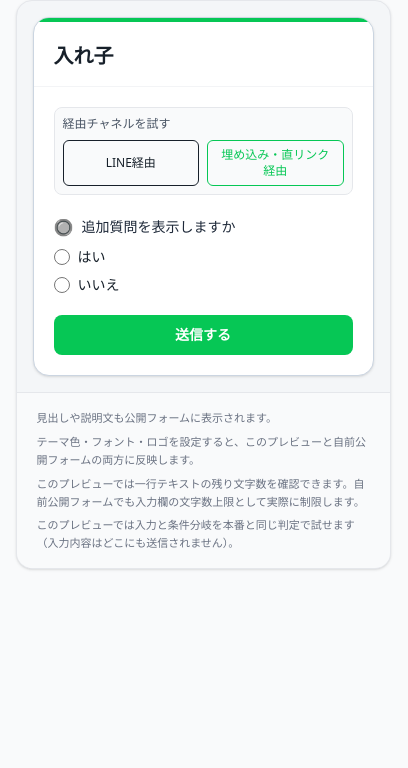
FormPreview — internal renderer と共有する条件分岐 › 親が隠れると下位も隠れ、親の再表示時に保持回答で下位条件を再評価する
This screenshot has width=408, height=768.
Expected: the text "下位の選択" is not shown
Expected: the text "下位の詳細" is not shown
What coordinates should you click on to do the following:
click the radio button named "プレビュー はい"
I would click on:
 (62, 257)
Its box is [54,249,70,265].
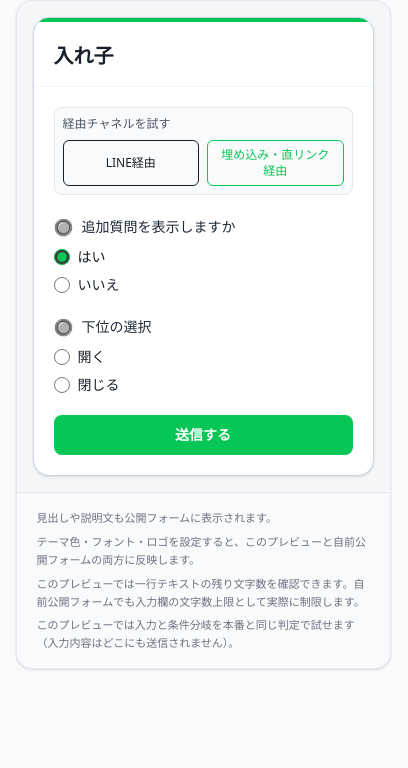
Expected: the text "下位の詳細" is not shown
Result: the text "下位の選択" is shown at [82,317,152,337]
What coordinates should you click on to do the following:
click the radio button named "プレビュー 開く"
I would click on:
 (62, 357)
Its box is [54,349,70,365].
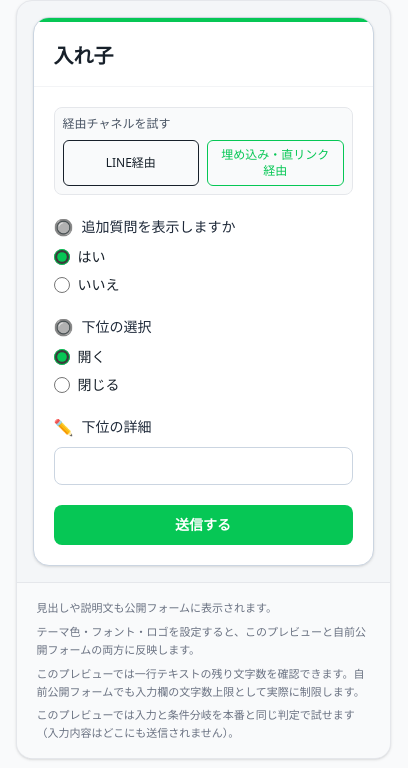
Result: the text "下位の詳細" is shown at [82,417,152,437]
What coordinates should you click on to do the following:
click the radio button named "プレビュー いいえ"
I would click on:
 (62, 285)
Its box is [54,277,70,293].
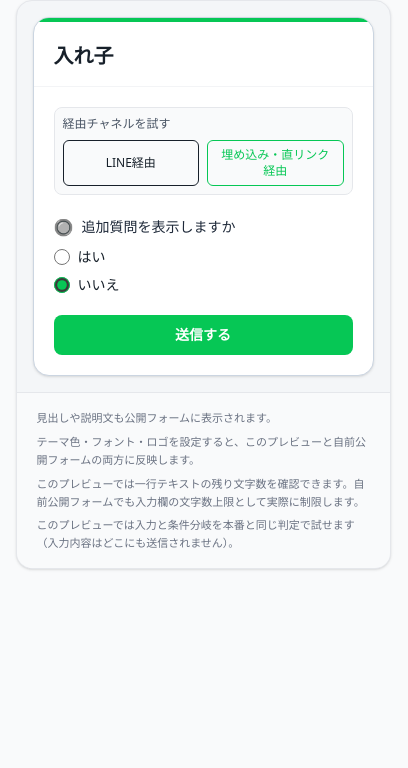
Result: the text "下位の選択" is gone
Result: the text "下位の詳細" is gone
What coordinates should you click on to do the following:
click the radio button named "プレビュー はい"
I would click on:
 (62, 257)
Its box is [54,249,70,265].
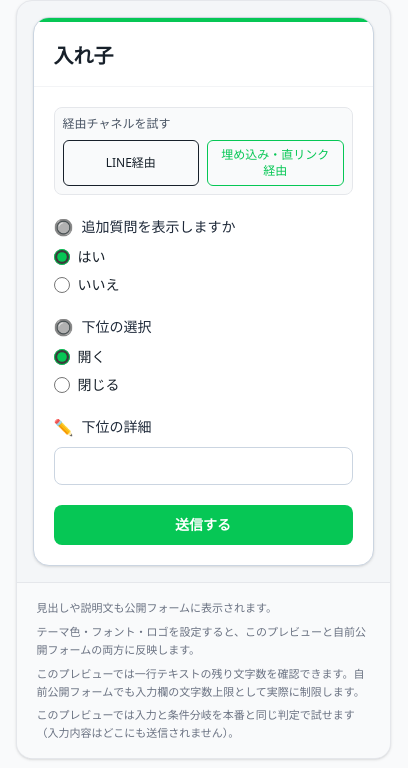
Result: the text "下位の選択" is shown at [82,317,152,337]
Result: the text "下位の詳細" is shown at [82,417,152,437]
